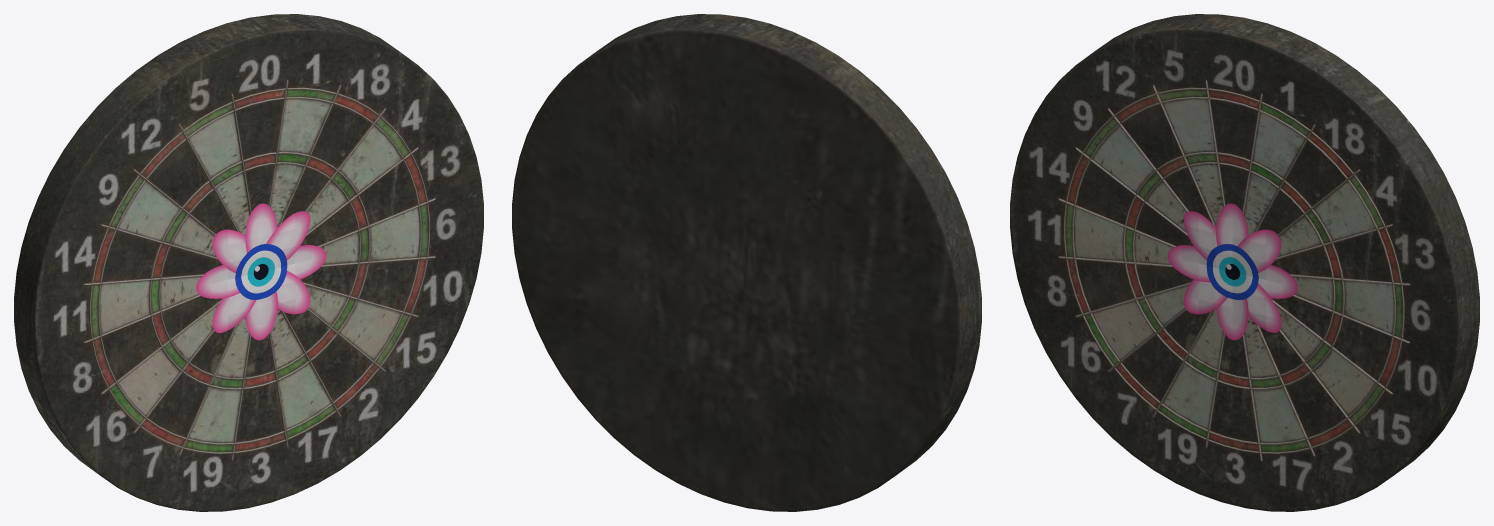
Rendered from nyb_big_dart.glb.
The picture shows the model from 3 angles, left to right: view 1: azimuth 30°, elevation 25°; view 2: azimuth 150°, elevation 25°; view 3: azimuth 330°, elevation 25°; orthographic projection.
Parts seen in each view (by area): view 1: dartboard, stk_eyeflower.png; view 2: dartboard; view 3: dartboard, stk_eyeflower.png.
Part boxes in pixels (left/top/right/bottom): dartboard: left=14, top=14, right=483, bottom=511; stk_eyeflower.png: left=196, top=203, right=326, bottom=340; dartboard: left=512, top=14, right=981, bottom=511; dartboard: left=1010, top=14, right=1479, bottom=511; stk_eyeflower.png: left=1167, top=203, right=1297, bottom=340.
Size of the model in its own units: 0.4507 by 0.4507 by 0.0418.
2 materials, 2 textured.
